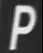Parking: (4, 0, 36, 49)
